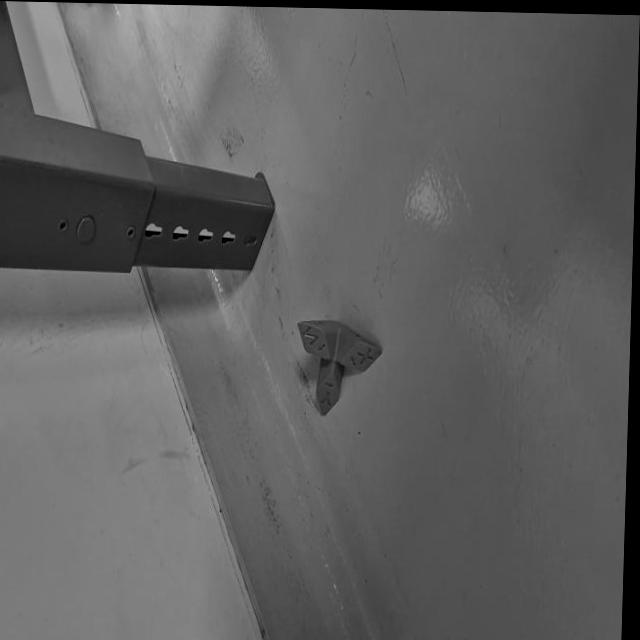eje: (291, 303, 388, 424)
